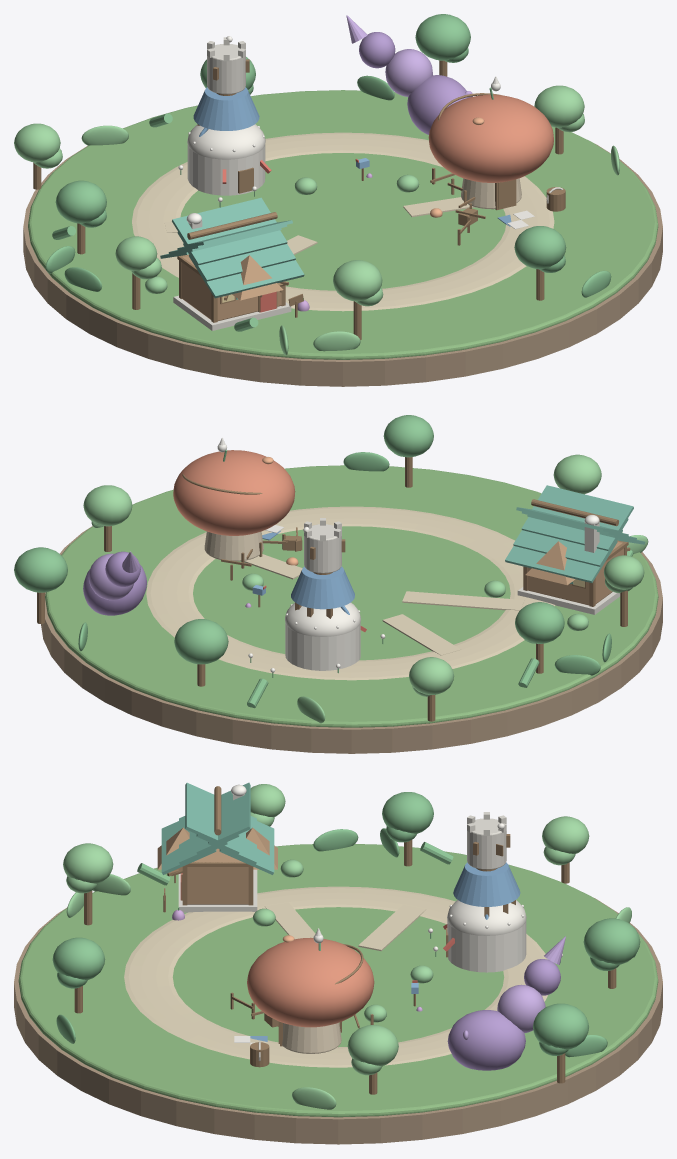
File: village_core2.glb
3 renders of one model, top to bottom at view 1: azimuth 30°, elevation 25°; view 2: azimuth 150°, elevation 25°; view 3: azimuth 270°, elevation 25°, orthographic. The views are drawn at different scales.
Parts seen in each view (by area): view 1: terrain_grass, terrain_dirt, path_ring, mushroom_cap, tower_pot, tower_cauldron, tower_pot_shoulder, tree_crown_4, purple_b1, cottage_roof_l3, cottage_wall, tree_crown_2 (+20 smaller); view 2: terrain_grass, terrain_dirt, path_ring, mushroom_cap, tower_pot, tower_cauldron, tree_crown_6, cottage_roof_r3, tree_crown_4, tower_pot_shoulder, tree_crown_2, tree_crown_0 (+21 smaller); view 3: terrain_grass, terrain_dirt, path_ring, mushroom_cap, purple_b1, tower_pot, cottage_wall, tower_cauldron, tower_pot_shoulder, tree_crown_6, tree_crown_4, tree_crown_2 (+22 smaller).
Boxes of the visible parts, x1,y1,x2,y2 form: terrain_grass: (28, 90, 658, 359); terrain_dirt: (23, 144, 662, 386); path_ring: (132, 132, 554, 311); mushroom_cap: (428, 94, 553, 182); tower_pot: (187, 145, 265, 195); tower_cauldron: (193, 87, 259, 130); tower_pot_shoulder: (187, 124, 265, 159); tree_crown_4: (415, 14, 470, 60); purple_b1: (407, 75, 467, 134); cottage_roof_l3: (172, 197, 276, 249); cottage_wall: (181, 254, 281, 320); tree_crown_2: (514, 226, 566, 269); terrain_grass: (45, 465, 658, 727); terrain_dirt: (41, 526, 662, 753); path_ring: (146, 506, 555, 680); mushroom_cap: (173, 450, 295, 535); tower_pot: (285, 623, 360, 670); tower_cauldron: (291, 566, 354, 609); tree_crown_6: (174, 619, 228, 664); cottage_roof_r3: (532, 485, 633, 534); tree_crown_4: (14, 547, 67, 592); tower_pot_shoulder: (285, 602, 360, 636); tree_crown_2: (383, 415, 433, 457); tree_crown_0: (515, 602, 564, 643); terrain_grass: (18, 844, 658, 1117); terrain_dirt: (14, 898, 662, 1144); path_ring: (124, 886, 547, 1067); mushroom_cap: (247, 937, 374, 1027); purple_b1: (447, 1010, 525, 1070); tower_pot: (447, 920, 526, 972); cottage_wall: (187, 848, 248, 904); tower_cauldron: (453, 862, 520, 906); tower_pot_shoulder: (447, 900, 526, 935); tree_crown_6: (583, 918, 640, 964); tree_crown_4: (533, 1003, 588, 1049); tree_crown_2: (52, 937, 105, 980).
Size of the model in its own units: 28 by 7.96 by 28.
